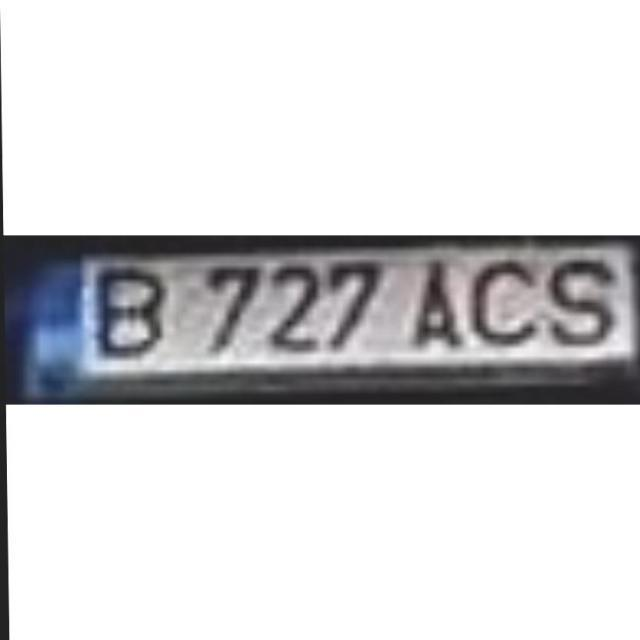license-plates: (0, 237, 640, 403)
